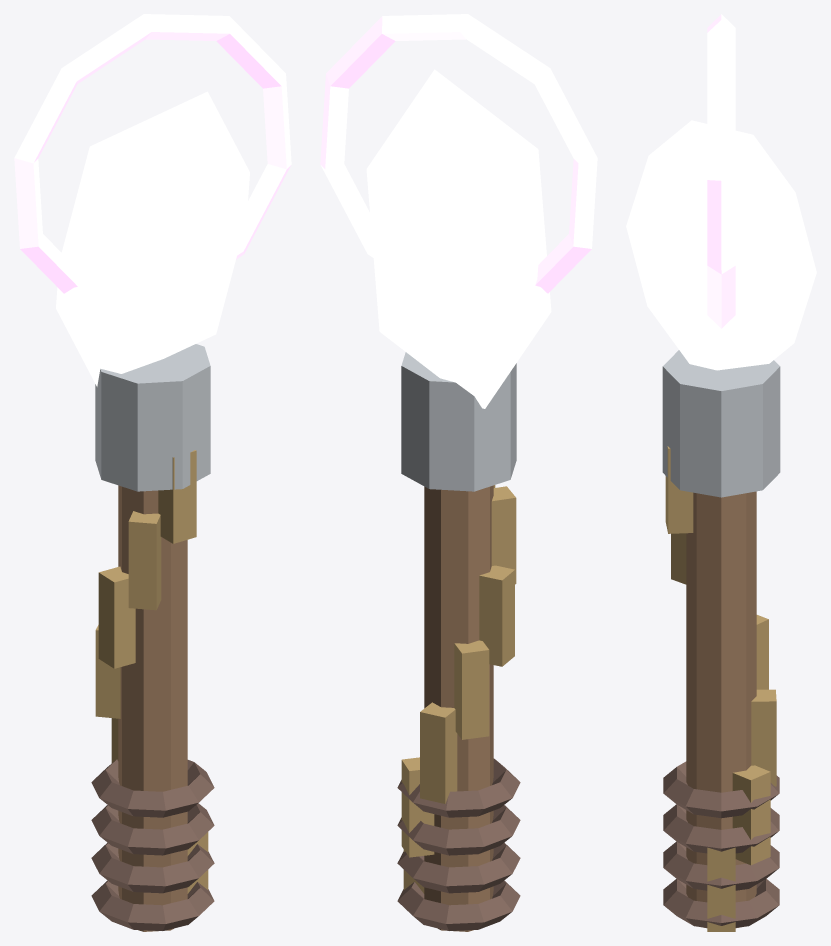
The model's file is arcane_wand.glb.
3 views of the same model, side by side, from view 1: azimuth 30°, elevation 25°; view 2: azimuth 150°, elevation 25°; view 3: azimuth 270°, elevation 25° (orthographic).
Parts seen in each view (by area): view 1: GemTip, SpiralWoodCore, FloatingRune, SilverFerrule, GripWrap_3.021, GripWrap_2.021, SpiralInlay_4, GripWrap_1.021, GripWrap_0.021, SpiralInlay_5, SpiralInlay_6, SpiralInlay_3; view 2: GemTip, SpiralWoodCore, FloatingRune, SilverFerrule, SpiralInlay_2, SpiralInlay_3, GripWrap_0.021, SpiralInlay_4, GripWrap_1.021, GripWrap_2.021, GripWrap_3.021, SpiralInlay_5 (+1 smaller); view 3: GemTip, SpiralWoodCore, SilverFerrule, FloatingRune, GripWrap_0.021, GripWrap_3.021, GripWrap_2.021, GripWrap_1.021, SpiralInlay_1, SpiralInlay_2, SpiralInlay_0, SpiralInlay_6 (+2 smaller).
Boxes of the visible parts, <box> form: GemTip: <box>56,91,249,386</box>; SpiralWoodCore: <box>118,485,187,931</box>; FloatingRune: <box>14,14,291,293</box>; SilverFerrule: <box>95,344,210,491</box>; GripWrap_3.021: <box>91,759,214,817</box>; GripWrap_2.021: <box>91,803,214,855</box>; SpiralInlay_4: <box>98,566,135,668</box>; GripWrap_1.021: <box>91,842,214,893</box>; GripWrap_0.021: <box>91,880,214,930</box>; SpiralInlay_5: <box>128,511,161,610</box>; SpiralInlay_6: <box>158,450,196,543</box>; SpiralInlay_3: <box>95,625,120,718</box>; GemTip: <box>366,69,551,408</box>; SpiralWoodCore: <box>424,485,493,931</box>; FloatingRune: <box>320,14,597,293</box>; SilverFerrule: <box>401,352,516,491</box>; SpiralInlay_2: <box>420,702,457,803</box>; SpiralInlay_3: <box>454,640,489,739</box>; GripWrap_0.021: <box>397,880,520,930</box>; SpiralInlay_4: <box>479,565,514,666</box>; GripWrap_1.021: <box>397,842,520,893</box>; GripWrap_2.021: <box>397,805,520,855</box>; GripWrap_3.021: <box>397,758,520,817</box>; SpiralInlay_5: <box>491,486,516,584</box>; GemTip: <box>626,120,816,370</box>; SpiralWoodCore: <box>686,491,756,928</box>; SilverFerrule: <box>662,350,780,497</box>; FloatingRune: <box>707,14,735,328</box>; GripWrap_0.021: <box>663,879,779,927</box>; GripWrap_3.021: <box>663,761,779,818</box>; GripWrap_2.021: <box>663,804,779,853</box>; GripWrap_1.021: <box>663,841,779,890</box>; SpiralInlay_1: <box>732,765,770,865</box>; SpiralInlay_2: <box>751,689,776,786</box>; SpiralInlay_0: <box>707,847,735,931</box>; SpiralInlay_6: <box>665,446,693,533</box>.
Bounding box in the file's own units: 0.4031 × 1.26 × 0.2439.
